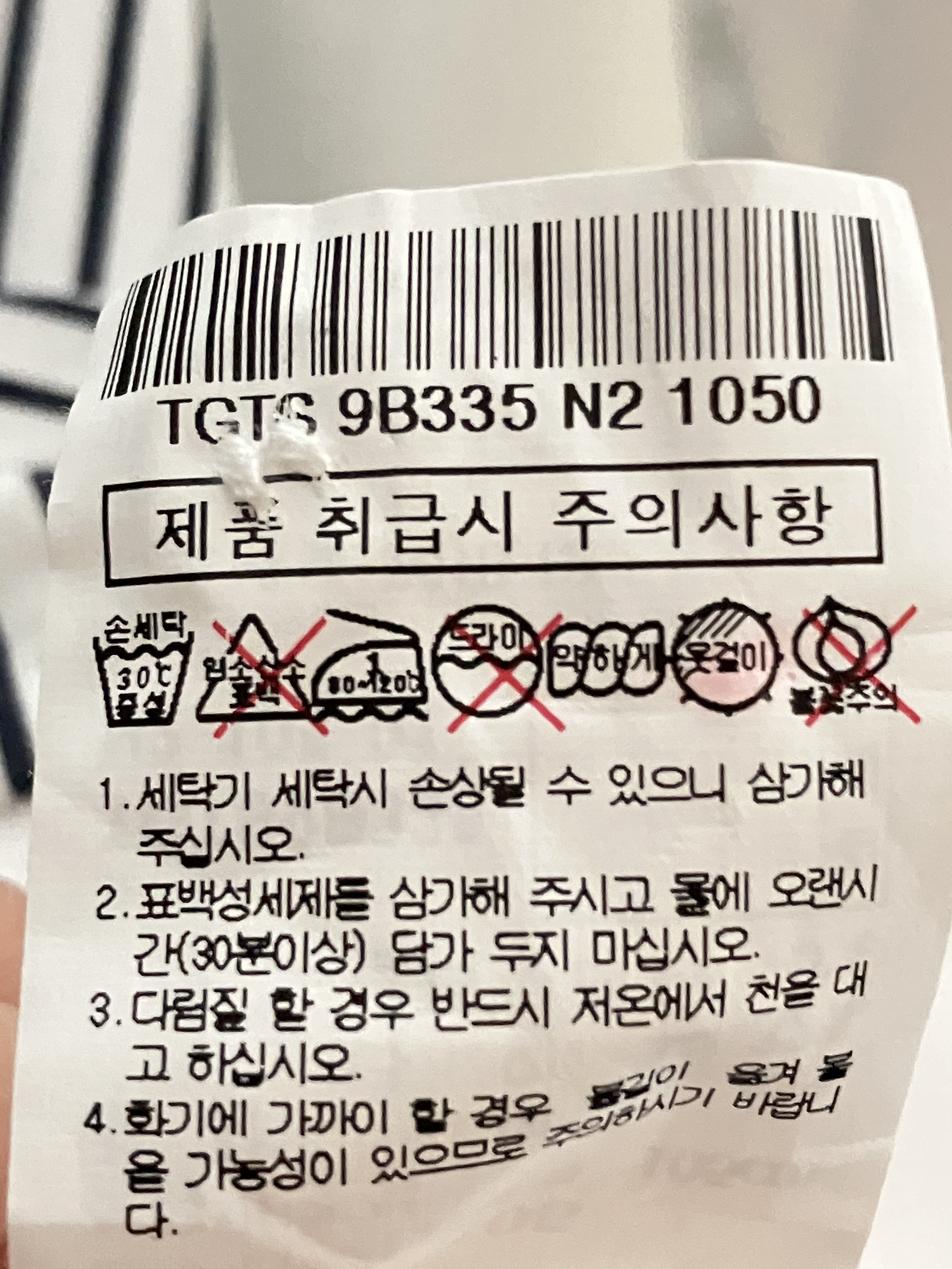KR_gentle_wring: (550, 622, 669, 700)
KR_hand_wash_30_neutral: (84, 603, 194, 735)
KR_hang_dry_in_shade: (671, 589, 785, 715)
KR_iron_low_temp_with_cloth: (314, 612, 436, 732)
KR_no_bleach: (194, 607, 313, 736)
KR_no_dry_clean: (436, 606, 544, 719)
